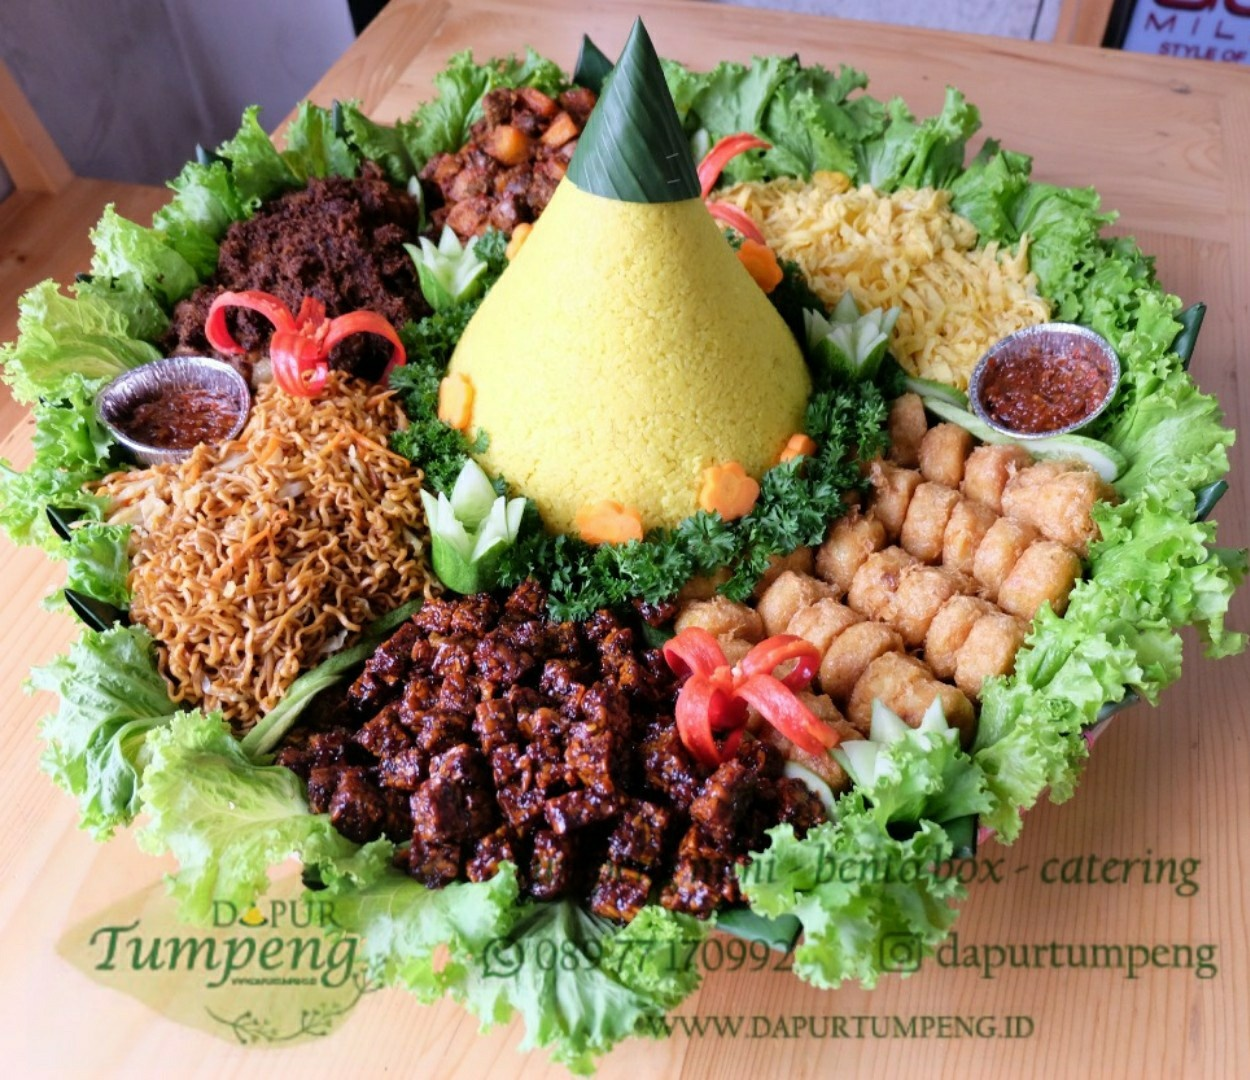nasi_tumpeng: (83, 9, 1125, 921)
